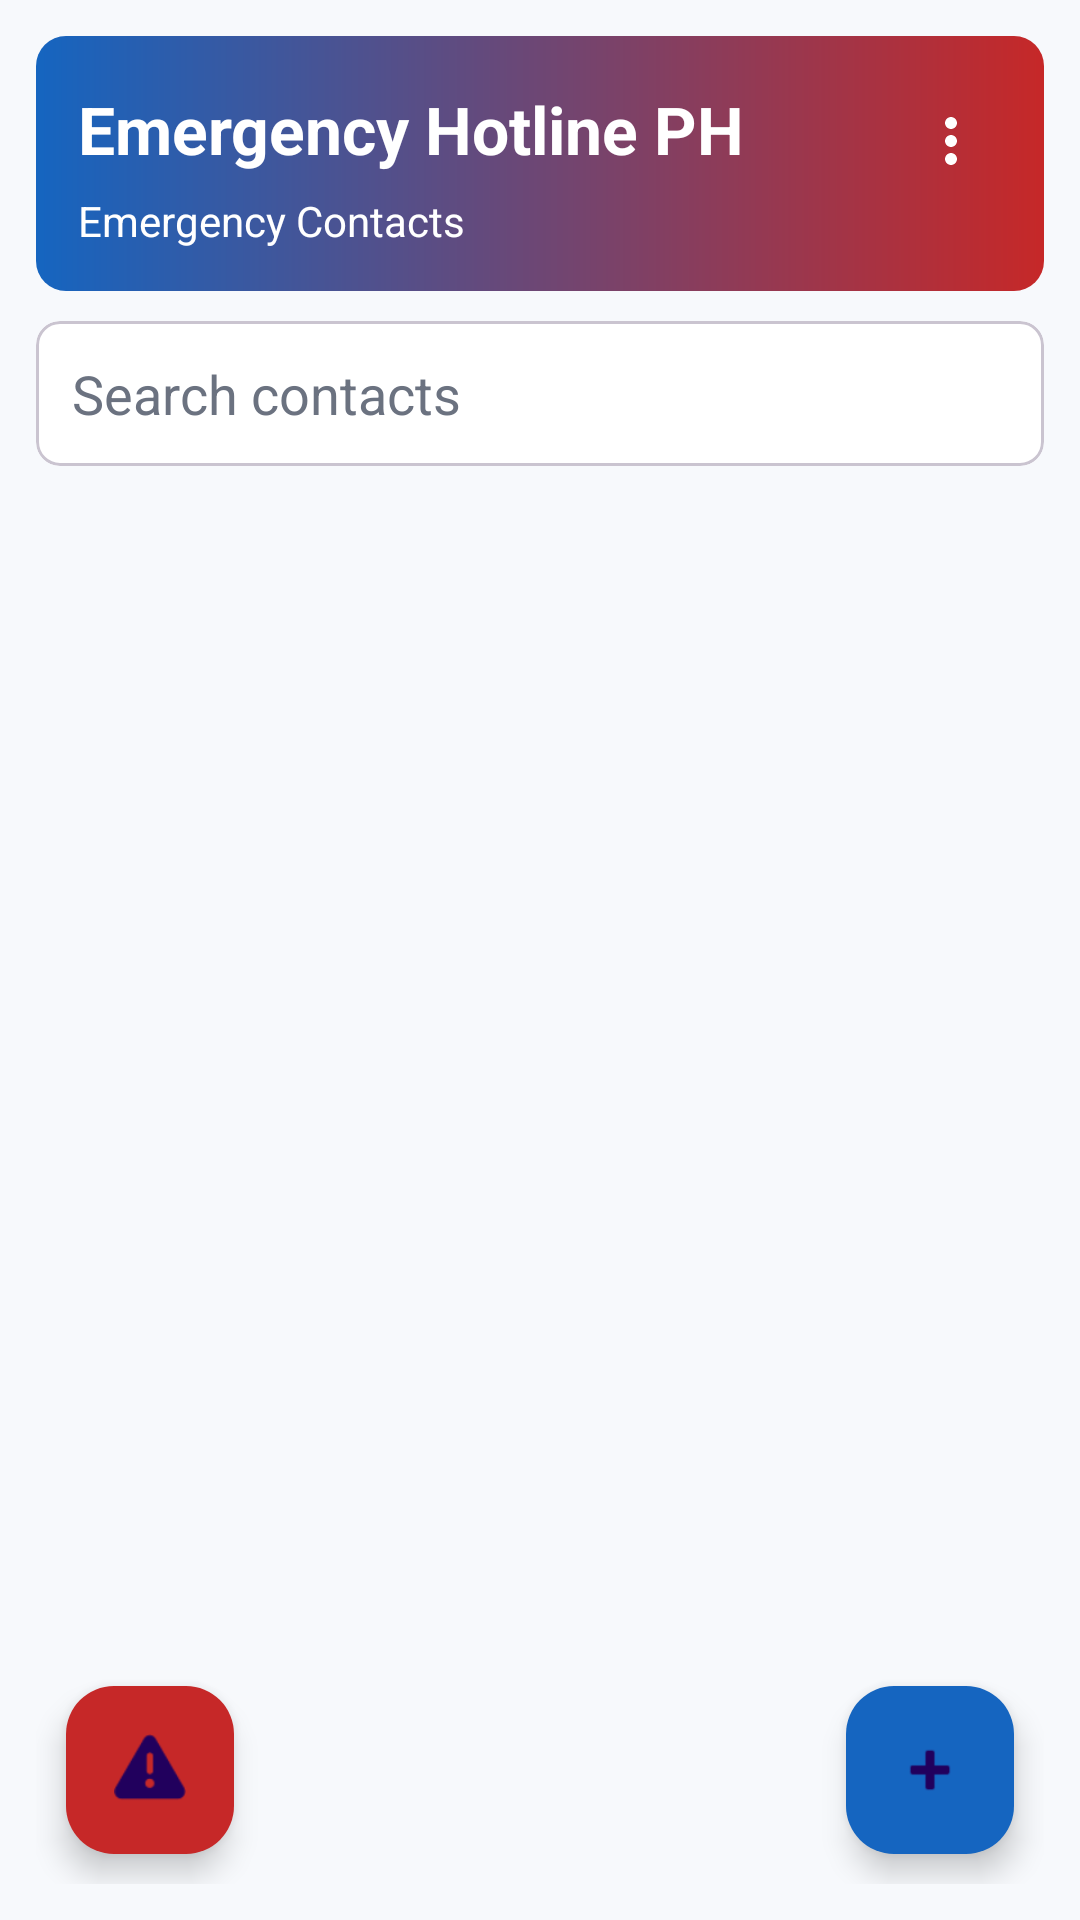

Icons on this 1080×1920 Android screen, each with the point to tap as point (x, y):
Add contact: point (930, 1770)
More options: point (951, 141)
SOS: point (150, 1770)
